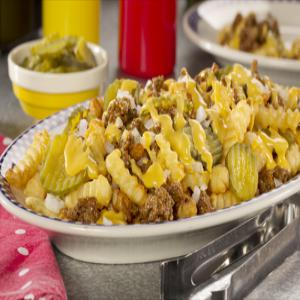fries: (3, 62, 300, 227)
